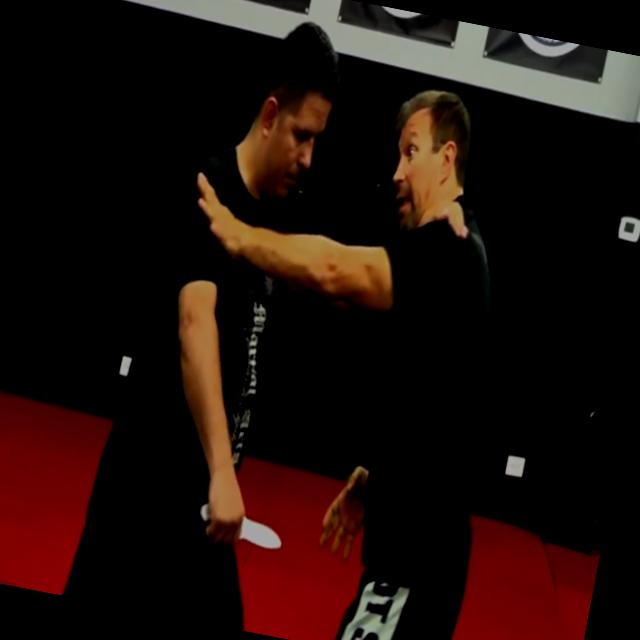knife: (189, 492, 292, 561)
